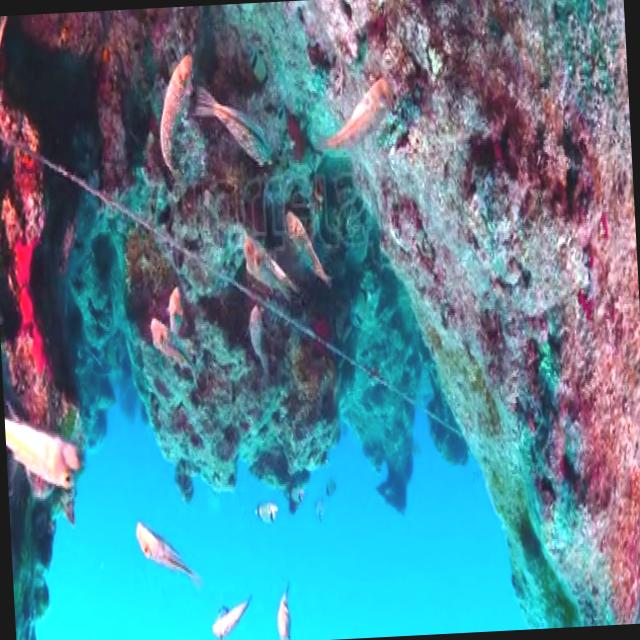Balon Baligi: (188, 76, 276, 176), (4, 396, 79, 502), (315, 76, 398, 152), (157, 48, 200, 183), (242, 234, 302, 312), (136, 518, 192, 586), (148, 318, 200, 388), (213, 588, 256, 640), (272, 581, 297, 640)
